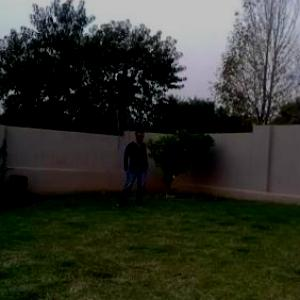follow: (122, 126, 150, 212)
